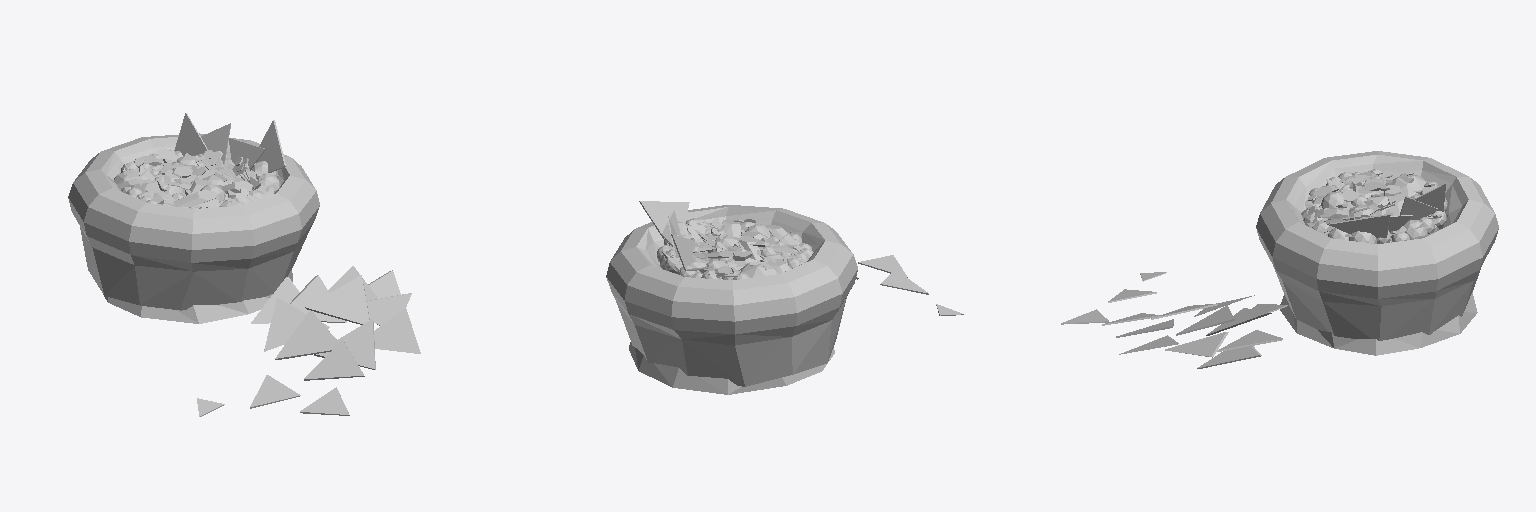
Rendered from guacamole.obj.
3 renders of one model, left to right at view 1: azimuth 30°, elevation 25°; view 2: azimuth 150°, elevation 25°; view 3: azimuth 270°, elevation 25°, orthographic.
Parts seen in each view (by area): view 1: model; view 2: model; view 3: model.
Part boxes in pixels (x1,y1,x2,y2): model: (68,113,420,416); model: (606,201,963,394); model: (1061,151,1498,368).
Bounding box in the file's own units: 1 × 0.6 × 1.5.